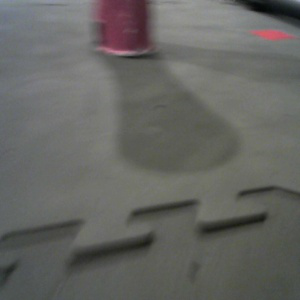right: (90, 1, 156, 58)
